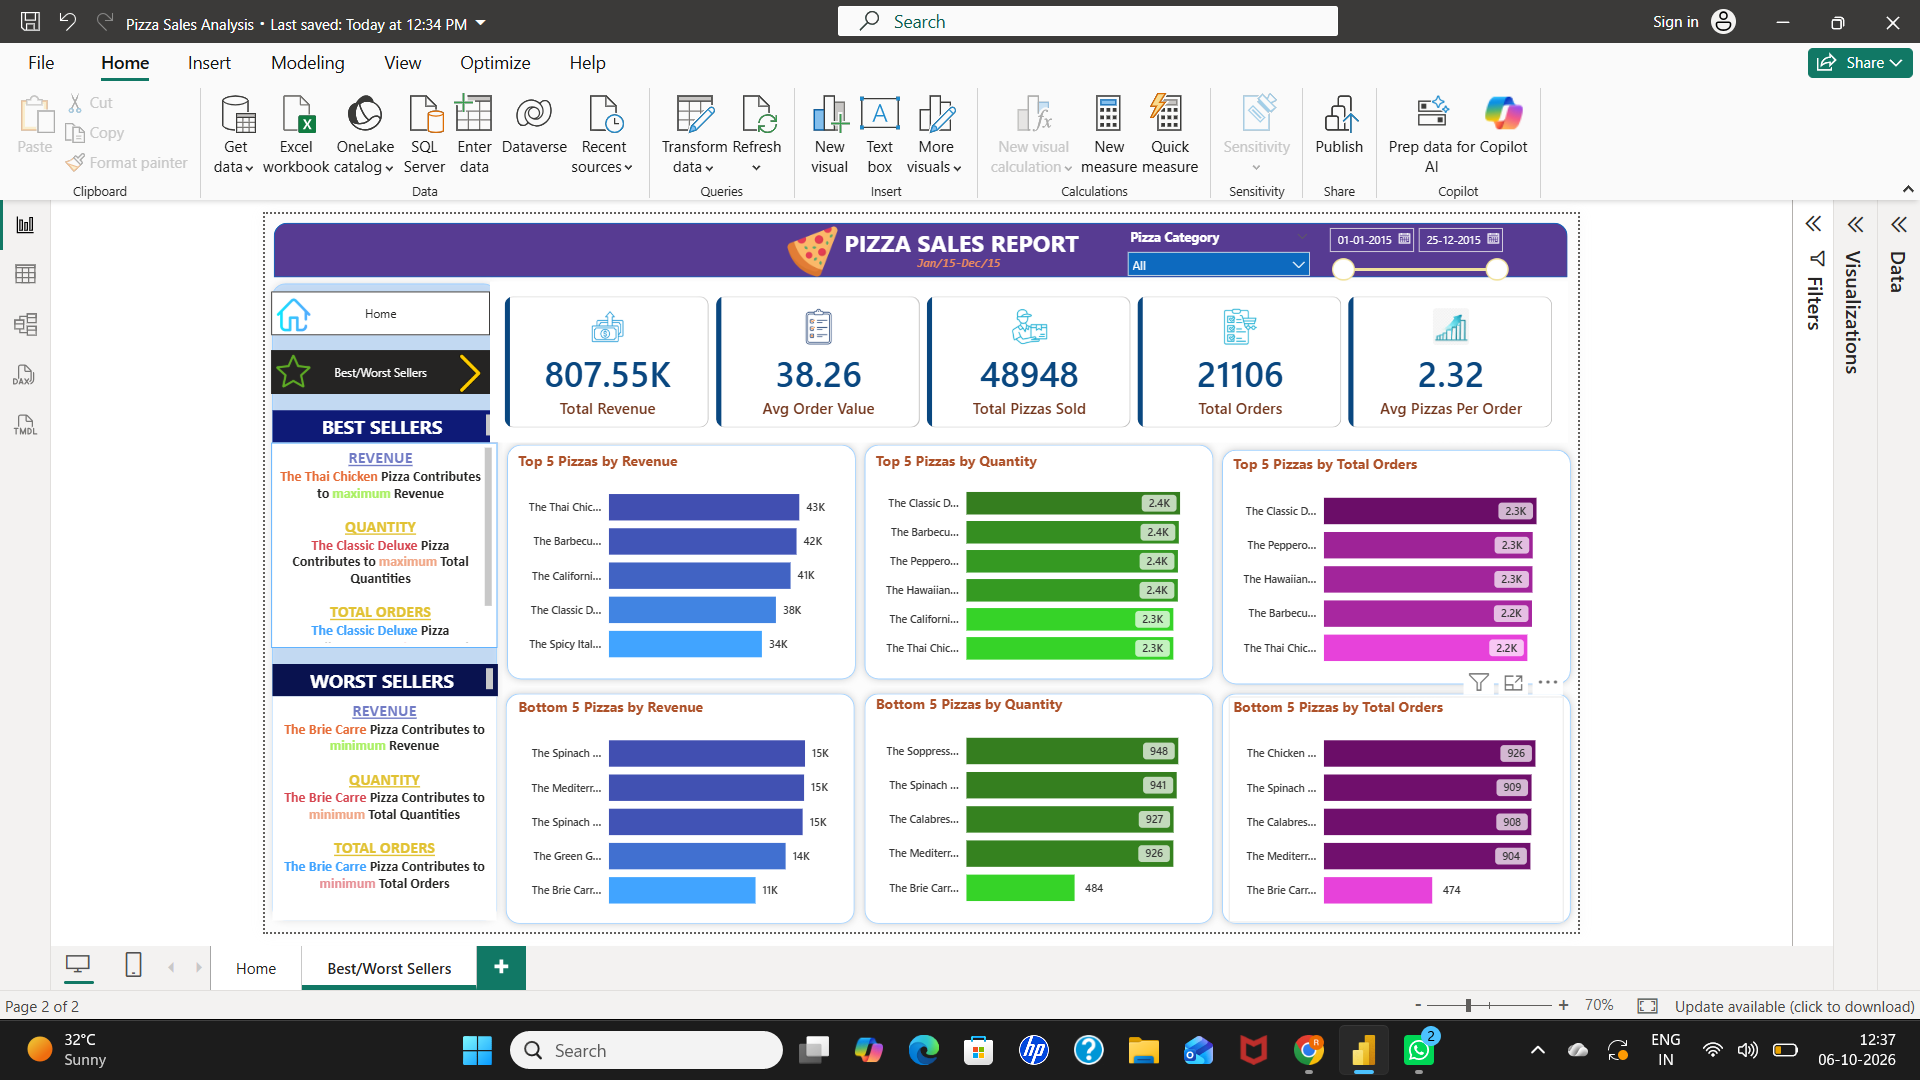

The page's visual inventory and layout, read from the dashboard file:
{"tool":"powerbi","page":{"name":"Best/Worst Sellers","canvas":[1500,820],"ordinal":1},"visuals":[{"type":"shape","box":[10,10,1478.8,62.5],"z":0},{"type":"textbox","box":[656.2,10,281.2,53.8],"z":1000},{"type":"textbox","box":[740,41.2,115,35],"z":2000},{"type":"image","box":[596.2,12.5,60,60],"z":3000},{"type":"shape","box":[268.3,256.1,414.6,284.1],"z":4000},{"type":"shape","box":[0,70.7,273.2,743.9],"z":5000},{"type":"textbox","box":[8.5,224.4,257.3,36.6],"z":6000},{"type":"textbox","box":[7.3,261,258.5,234.1],"z":7000},{"type":"textbox","box":[8.5,514.6,257.3,36.6],"z":8000},{"type":"textbox","box":[8.5,551.2,256.1,256.1],"z":9000},{"type":"slicer","fields":{"Values":["pizza_sales_excel_file.pizza_category"]},"box":[975.6,11,228,59.8],"z":10000},{"type":"slicer","fields":{"Values":["pizza_sales_excel_file.order_date"]},"box":[1203.7,6.1,228,82.9],"z":11000},{"type":"shape","box":[676.8,256.1,414.6,284.1],"z":12000},{"type":"shape","box":[1085.4,261,414.6,284.1],"z":13000},{"type":"shape","box":[267.1,540.2,414.6,279.3],"z":14000},{"type":"shape","box":[676.8,540.2,414.6,279.3],"z":15000},{"type":"shape","box":[1085.4,540.2,414.6,279.3],"z":16000},{"type":"cardVisual","fields":{"Data":["pizza_sales_excel_file.Total Revenue","pizza_sales_excel_file.Avg Order Value","pizza_sales_excel_file.Total Pizzas Sold","pizza_sales_excel_file.Total Orders","pizza_sales_excel_file.Avg Pizzas Per Order"]},"box":[257.3,76.8,1231.7,184.1],"z":17000},{"type":"barChart","title":"Top 5 Pizzas by Revenue","fields":{"Category":["pizza_sales_excel_file.pizza_name"],"Y":["pizza_sales_excel_file.Total Revenue"]},"box":[284.1,269.5,382.9,258.5],"z":18000},{"type":"barChart","title":"Bottom 5 Pizzas by Revenue","fields":{"Category":["pizza_sales_excel_file.pizza_name"],"Y":["pizza_sales_excel_file.Total Revenue"]},"box":[284.1,551.2,382.9,258.5],"z":19000},{"type":"barChart","title":"Top 5 Pizzas by Quantity","fields":{"Category":["pizza_sales_excel_file.pizza_name"],"Y":["pizza_sales_excel_file.Total Pizzas Sold"]},"box":[692.7,269.5,382.9,258.5],"z":20000},{"type":"barChart","title":"Bottom 5 Pizzas by Quantity","fields":{"Category":["pizza_sales_excel_file.pizza_name"],"Y":["pizza_sales_excel_file.Total Pizzas Sold"]},"box":[692.7,548.8,382.9,258.5],"z":21000},{"type":"barChart","title":"Top 5 Pizzas by Total Orders","fields":{"Category":["pizza_sales_excel_file.pizza_name"],"Y":["pizza_sales_excel_file.Total Orders"]},"box":[1101.2,274.4,382.9,258.5],"z":22000},{"type":"barChart","title":"Bottom 5 Pizzas by Total Orders","fields":{"Category":["pizza_sales_excel_file.pizza_name"],"Y":["pizza_sales_excel_file.Total Orders"]},"box":[1101.2,551.2,382.9,258.5],"z":23000},{"type":"pageNavigator","box":[7.3,156.1,250,50],"z":24000},{"type":"pageNavigator","box":[7.3,89,250,50],"z":25000},{"type":"image","box":[195.1,159.8,78,43.9],"z":26000},{"type":"image","box":[7.3,95.1,51.2,39],"z":27000},{"type":"image","box":[0,159.8,64.6,39],"z":28000}]}

Visuals, with their boxes on the page's 1500x820 design canvas (x1, y1, x2, y2). These are canvas units, not pixel positions in the 1920x1080 screenshot, which may show the page scaled, cropped or inside an application window:
shape: left=10, top=10, right=1489, bottom=72
textbox: left=656, top=10, right=937, bottom=64
textbox: left=740, top=41, right=855, bottom=76
image: left=596, top=12, right=656, bottom=72
shape: left=268, top=256, right=683, bottom=540
shape: left=0, top=71, right=273, bottom=815
textbox: left=8, top=224, right=266, bottom=261
textbox: left=7, top=261, right=266, bottom=495
textbox: left=8, top=515, right=266, bottom=551
textbox: left=8, top=551, right=265, bottom=807
slicer - pizza_sales_excel_file.pizza_category: left=976, top=11, right=1204, bottom=71
slicer - pizza_sales_excel_file.order_date: left=1204, top=6, right=1432, bottom=89
shape: left=677, top=256, right=1091, bottom=540
shape: left=1085, top=261, right=1500, bottom=545
shape: left=267, top=540, right=682, bottom=820
shape: left=677, top=540, right=1091, bottom=820
shape: left=1085, top=540, right=1500, bottom=820
cardVisual - pizza_sales_excel_file.Total Revenue x pizza_sales_excel_file.Avg Order Value: left=257, top=77, right=1489, bottom=261
"Top 5 Pizzas by Revenue" barChart: left=284, top=270, right=667, bottom=528
"Bottom 5 Pizzas by Revenue" barChart: left=284, top=551, right=667, bottom=810
"Top 5 Pizzas by Quantity" barChart: left=693, top=270, right=1076, bottom=528
"Bottom 5 Pizzas by Quantity" barChart: left=693, top=549, right=1076, bottom=807
"Top 5 Pizzas by Total Orders" barChart: left=1101, top=274, right=1484, bottom=533
"Bottom 5 Pizzas by Total Orders" barChart: left=1101, top=551, right=1484, bottom=810
pageNavigator: left=7, top=156, right=257, bottom=206
pageNavigator: left=7, top=89, right=257, bottom=139
image: left=195, top=160, right=273, bottom=204
image: left=7, top=95, right=58, bottom=134
image: left=0, top=160, right=65, bottom=199
